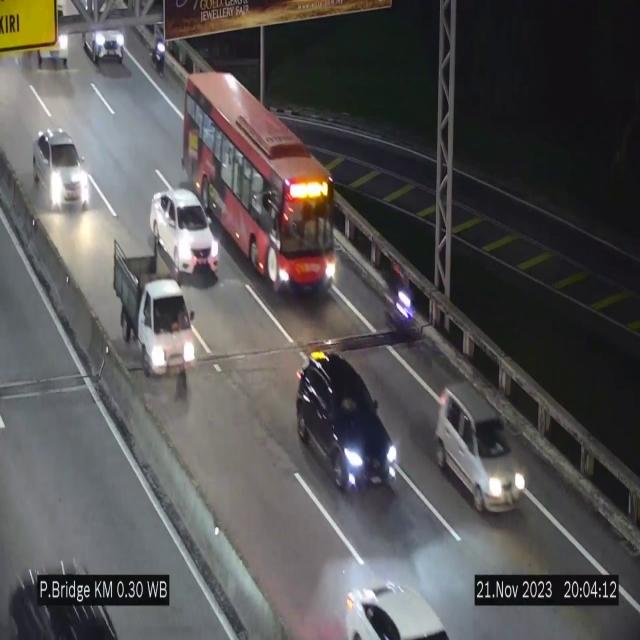Bus: (183, 70, 335, 294)
Car: (295, 353, 397, 502), (436, 384, 530, 512), (8, 553, 124, 640), (341, 568, 451, 640), (151, 187, 217, 280), (34, 128, 90, 210), (78, 2, 128, 70), (36, 2, 71, 76)
Motorcycle: (386, 261, 418, 351), (149, 25, 167, 81)
Truck: (111, 241, 199, 383)
